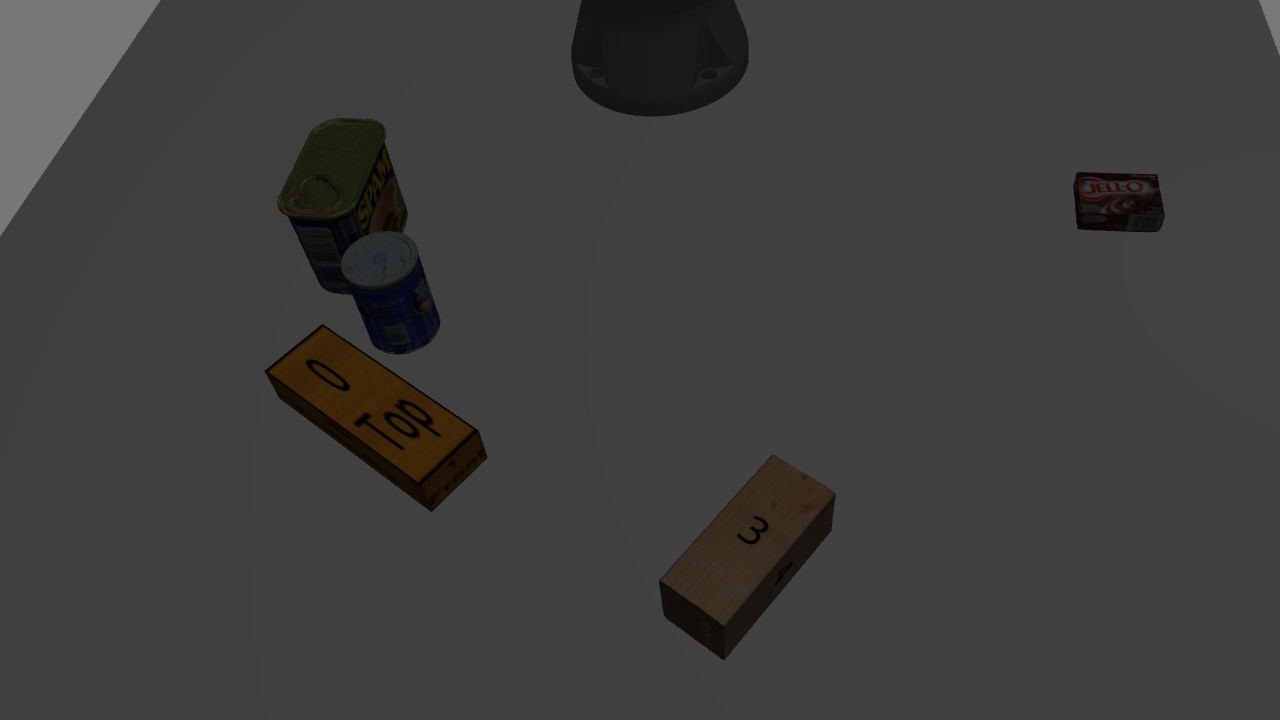jenga: (263, 318, 499, 518)
master_chef_can: (334, 230, 450, 349)
potted_meat_can: (272, 112, 420, 288)
pudding_box: (1069, 165, 1170, 238)
wood_block: (619, 408, 861, 664), (652, 422, 843, 666), (651, 302, 655, 347)
